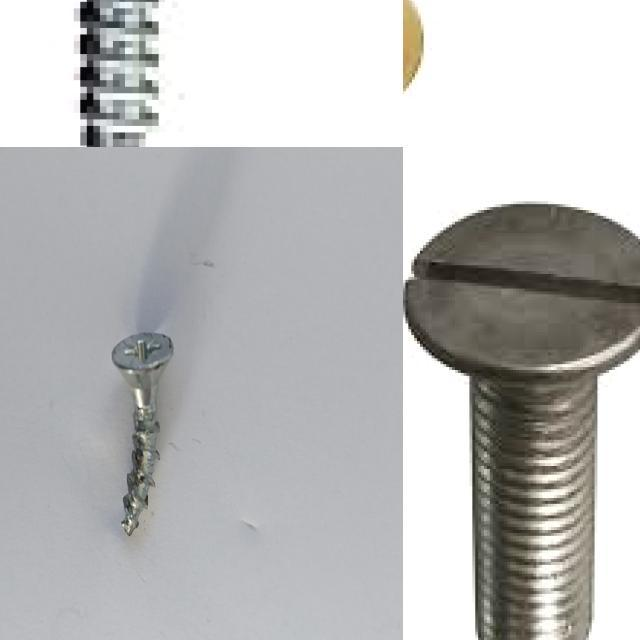Screw: (403, 204, 640, 640), (112, 332, 173, 535), (77, 0, 159, 147)
